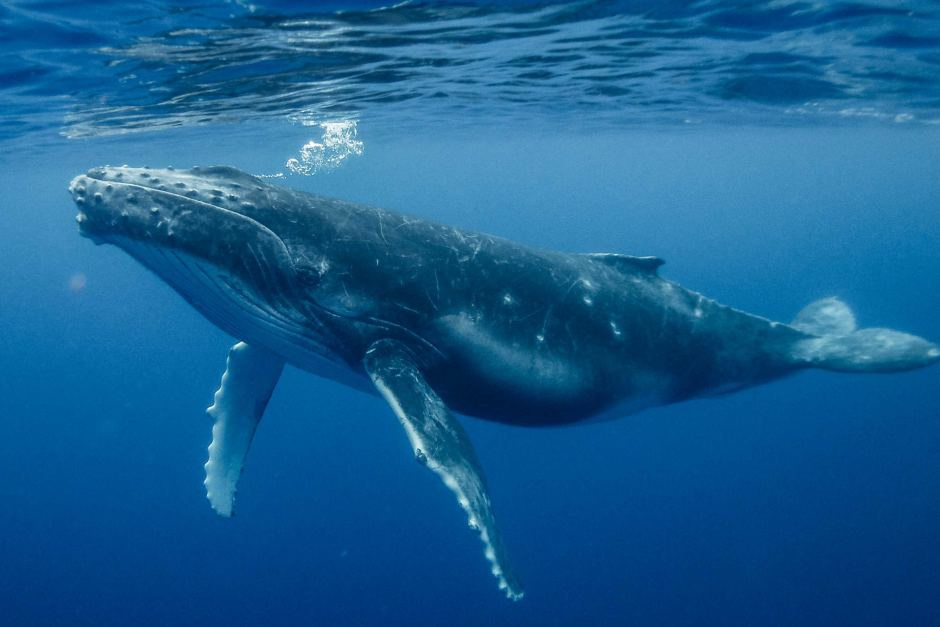humpback: (73, 163, 910, 427)
